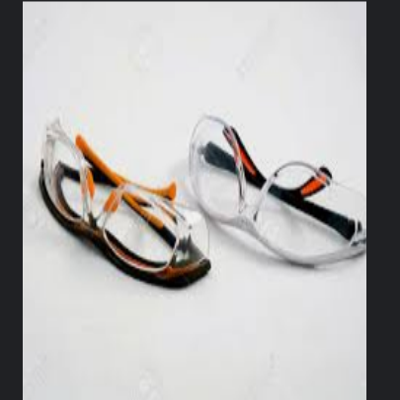glasses: (34, 113, 217, 295), (188, 106, 366, 271)
